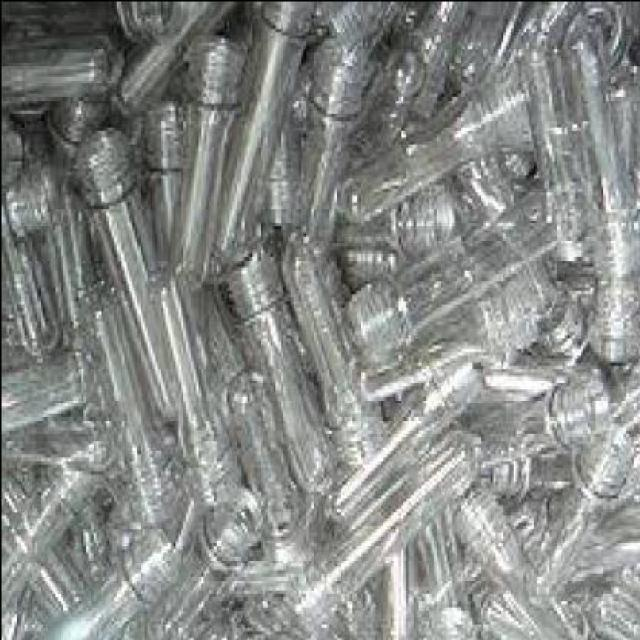PLASTIC: (1, 1, 638, 638), (330, 38, 541, 232), (274, 432, 483, 620), (524, 26, 638, 365), (74, 133, 192, 425), (225, 248, 338, 504), (214, 3, 314, 275), (72, 290, 179, 538), (324, 358, 478, 524), (463, 156, 589, 358), (284, 235, 382, 473), (322, 388, 484, 530), (353, 228, 512, 370), (455, 486, 600, 639), (514, 432, 638, 606), (168, 35, 248, 296), (136, 480, 264, 638), (153, 289, 241, 508), (287, 34, 371, 245), (522, 28, 592, 269), (18, 535, 179, 639), (232, 368, 312, 572), (2, 442, 90, 620), (118, 3, 244, 123), (2, 480, 102, 612), (2, 170, 62, 368), (482, 374, 612, 463), (38, 190, 100, 344), (392, 4, 472, 119), (3, 31, 123, 106), (535, 4, 637, 85), (2, 406, 118, 476), (3, 348, 85, 446), (456, 3, 536, 92), (584, 466, 639, 592), (2, 170, 75, 244), (409, 517, 463, 603), (320, 3, 397, 62), (572, 574, 638, 638), (484, 453, 570, 501), (2, 4, 118, 38), (110, 3, 195, 48), (51, 98, 112, 160), (240, 590, 311, 638), (414, 590, 480, 638), (472, 584, 530, 638), (2, 119, 33, 198), (610, 364, 638, 448), (3, 109, 59, 126)
